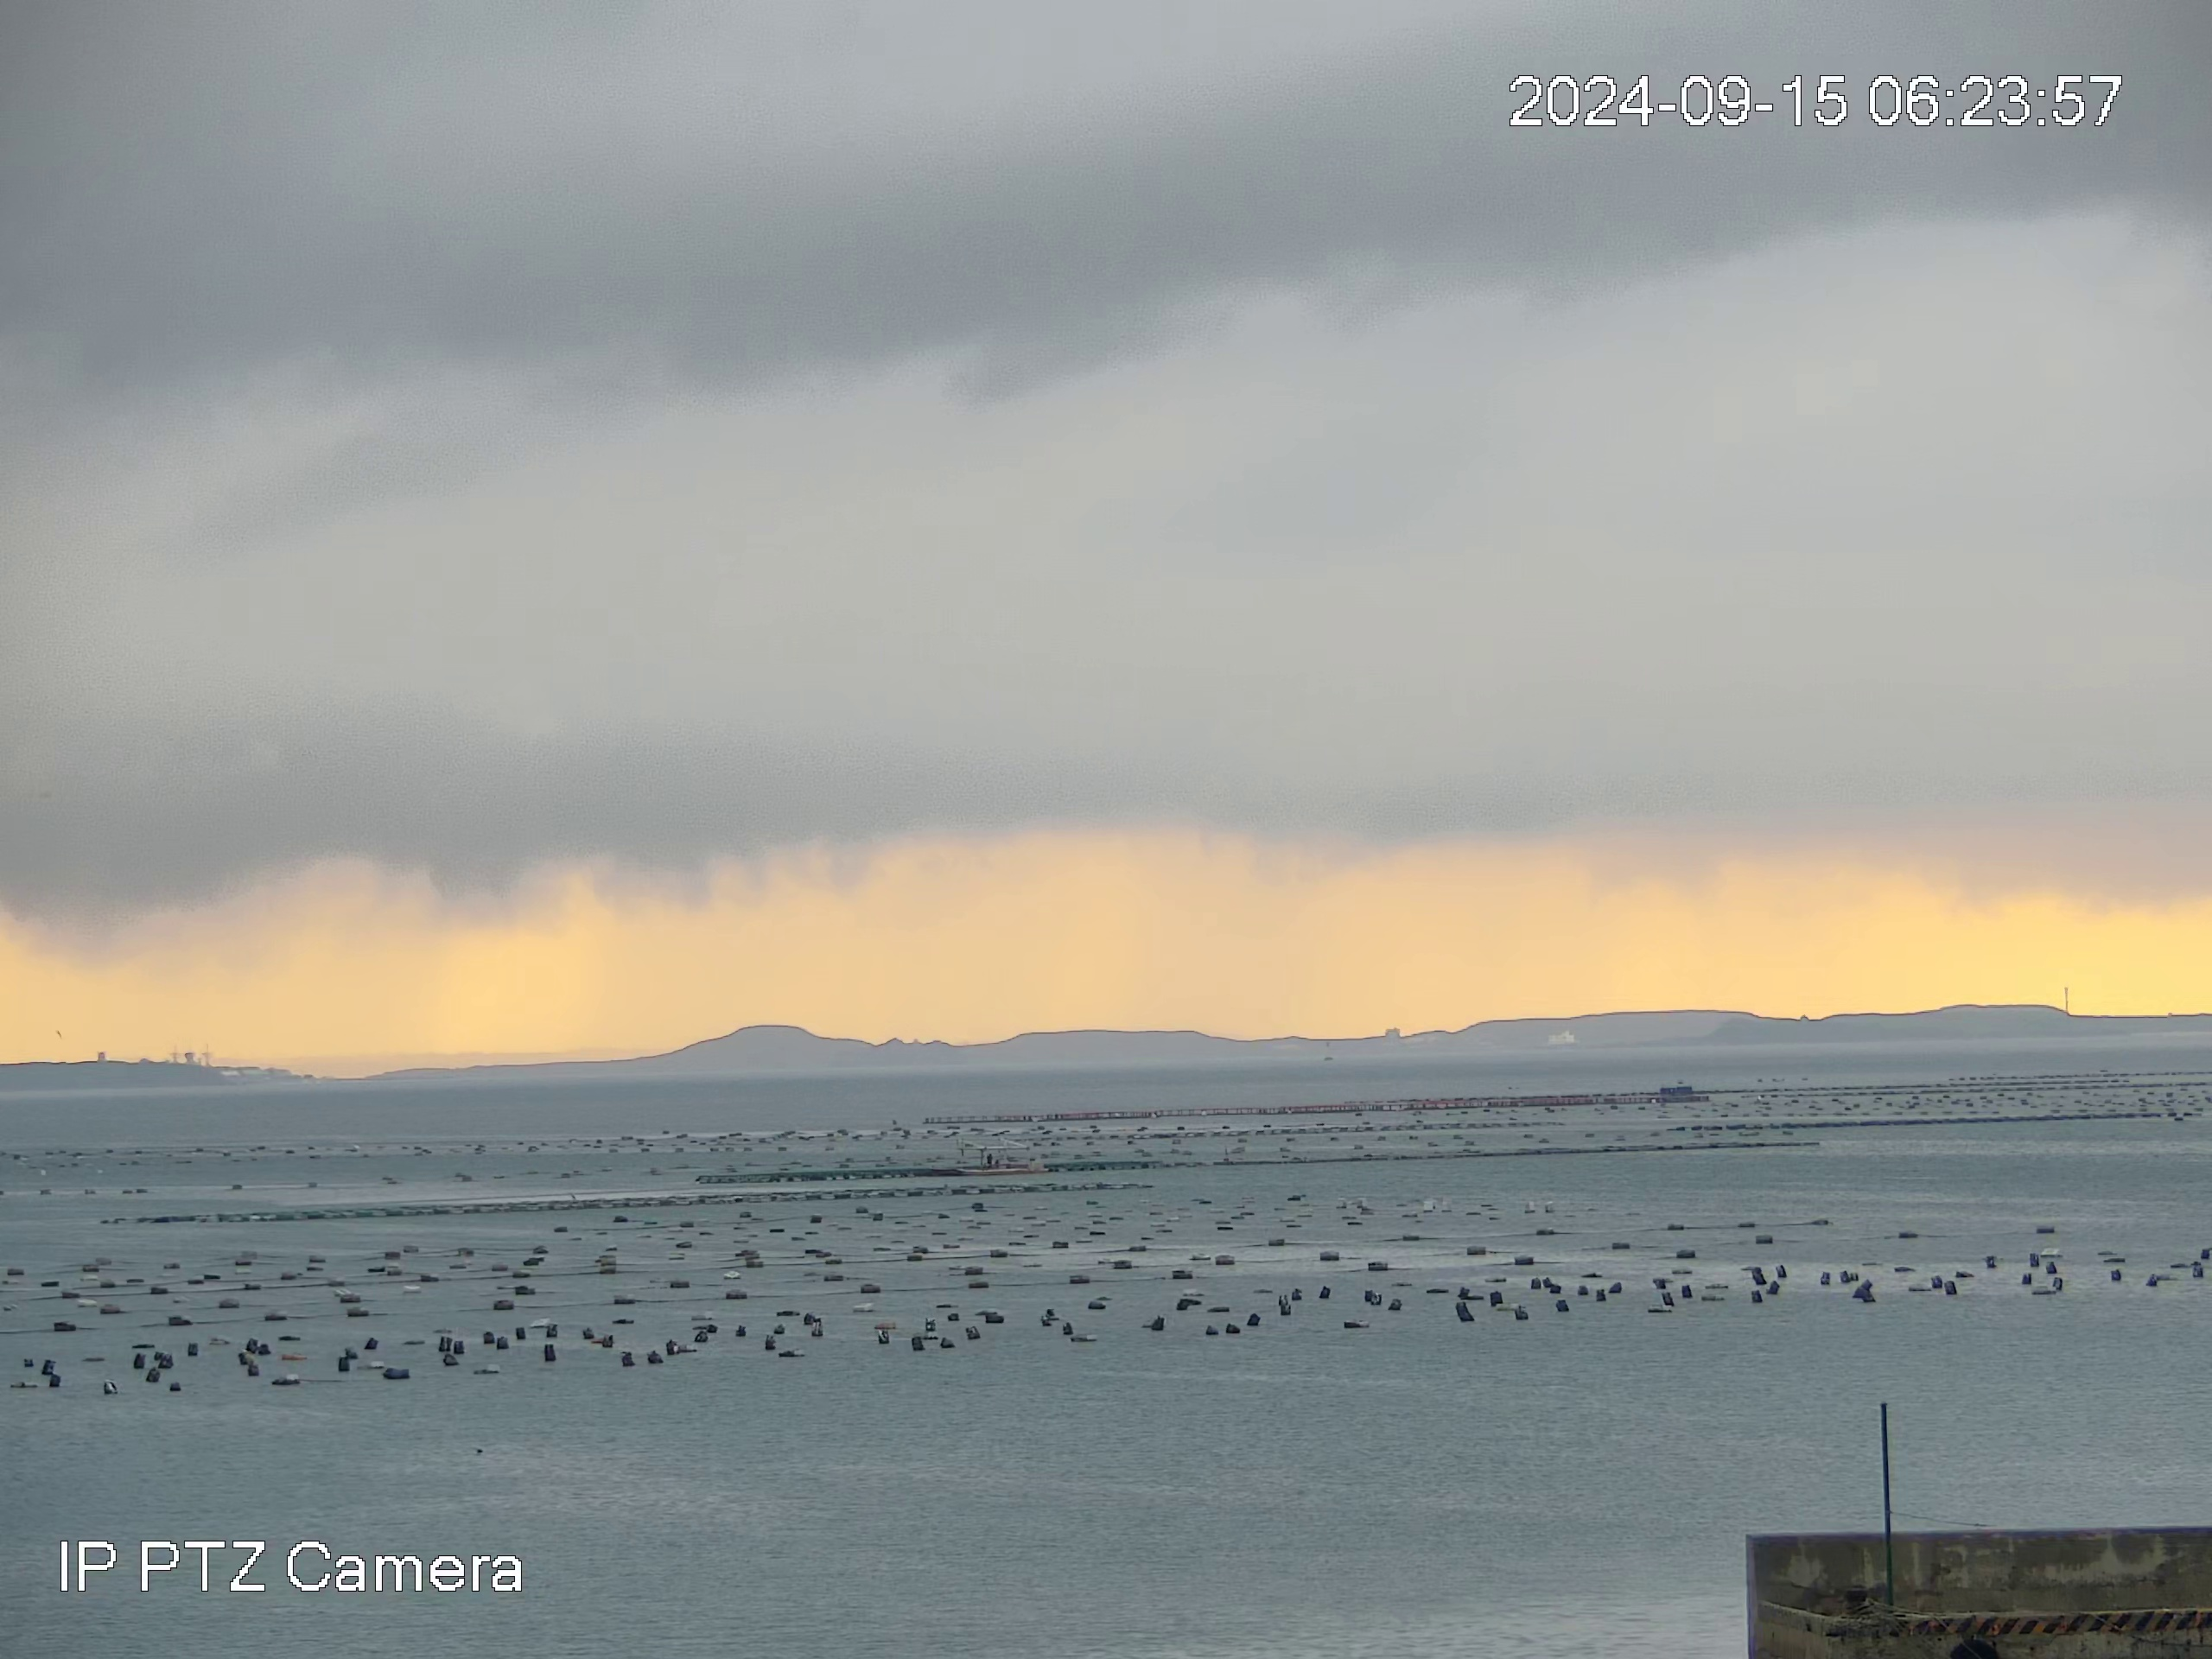boat: (961, 1138, 1049, 1176)
